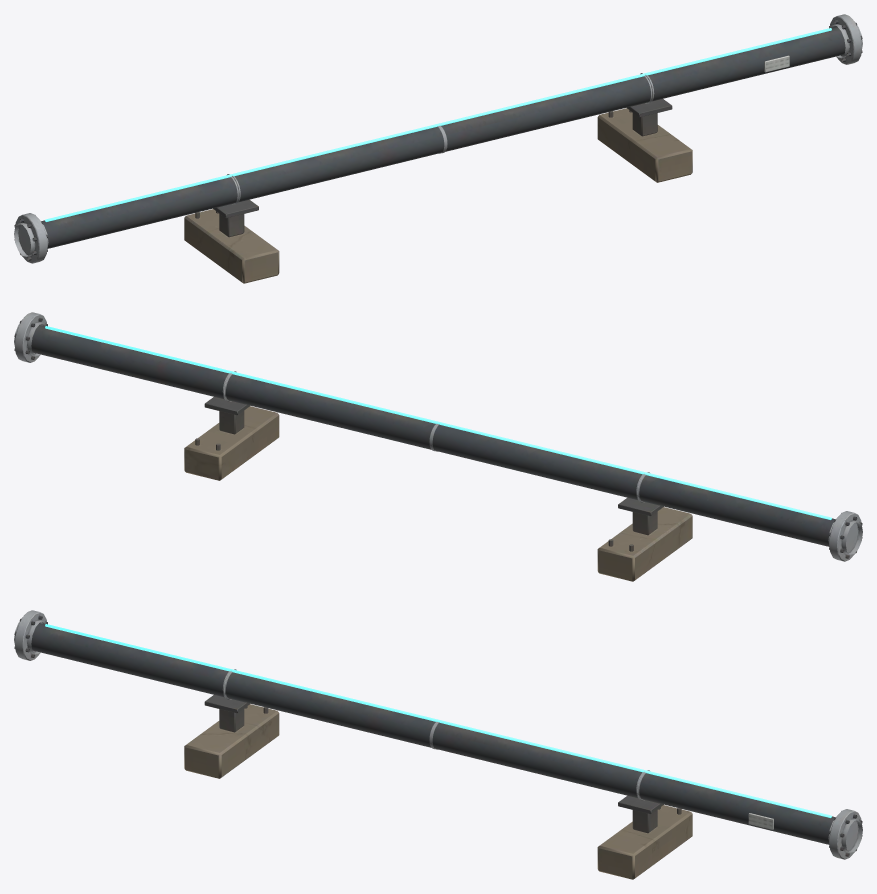
Rendered from pipeline_segment.glb.
The picture shows the model from 3 angles, top to bottom: view 1: azimuth 30°, elevation 25°; view 2: azimuth 150°, elevation 25°; view 3: azimuth 330°, elevation 25°; orthographic projection.
Visible parts, largest first — view 1: pipeline_segment_Body, FlowGlow; view 2: pipeline_segment_Body, FlowGlow; view 3: pipeline_segment_Body, FlowGlow.
Part boxes in pixels (x1,y1,x2,y2): pipeline_segment_Body: (14,14,862,283); FlowGlow: (45,28,831,221); pipeline_segment_Body: (14,312,862,581); FlowGlow: (45,326,831,519); pipeline_segment_Body: (14,610,862,879); FlowGlow: (45,624,831,817).
Bounding box in the file's own units: 4.02 × 0.4249 × 0.5001.
2 materials, 1 textured.
